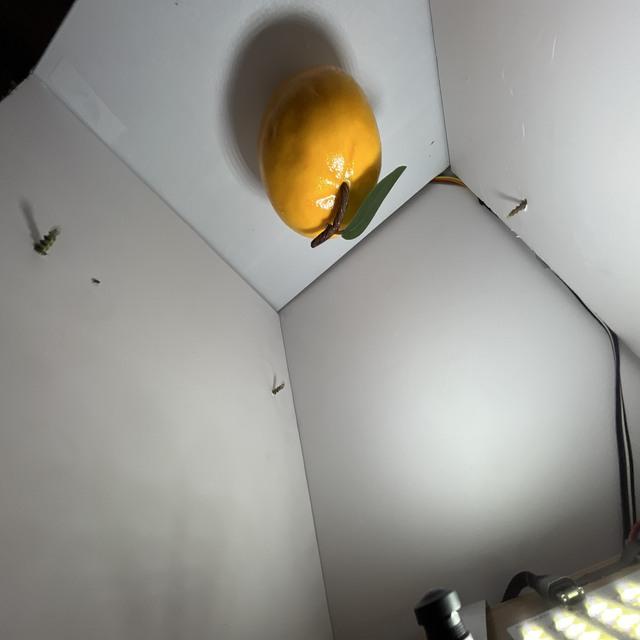Cam vang: (252, 71, 385, 236)
